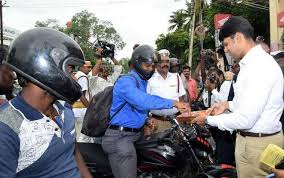helmet: (3, 24, 92, 111), (125, 43, 161, 80)
